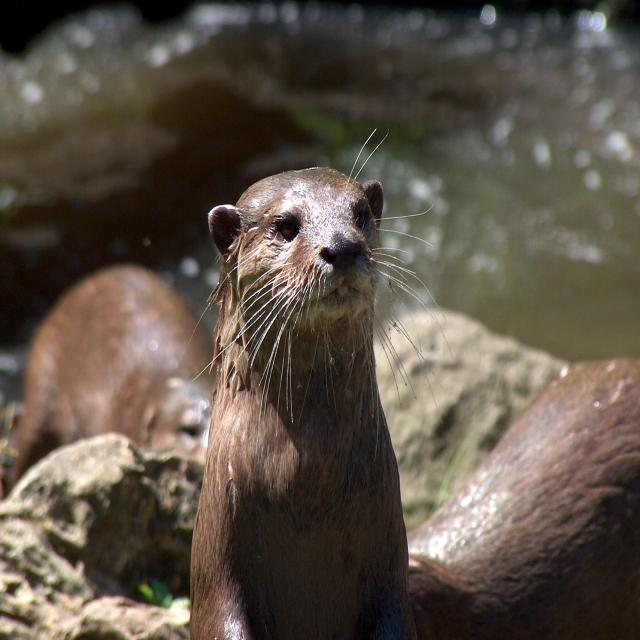otter: (193, 164, 419, 640)
